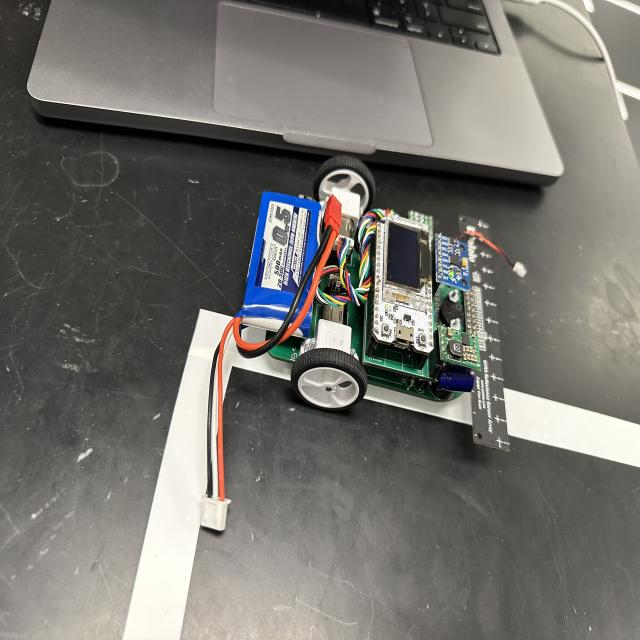robot: (237, 165, 519, 452)
